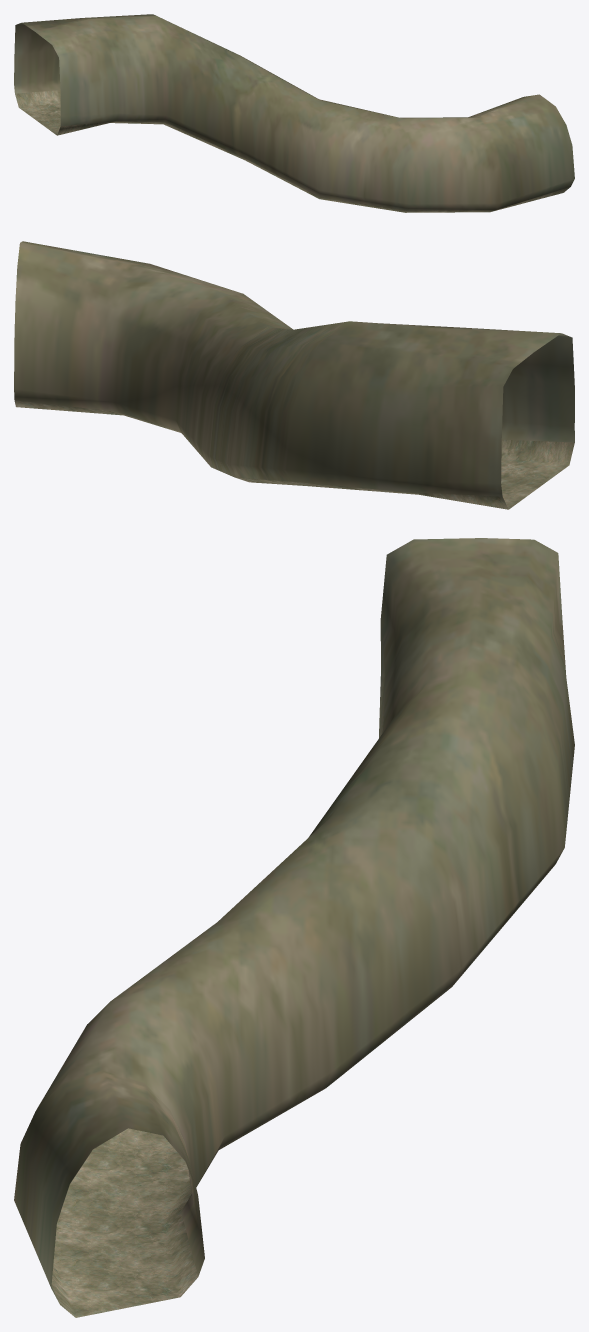
File: OVERHILL_A_01_CM_TUNNEL_01.fbx
The picture shows the model from 3 angles, top to bottom: view 1: azimuth 30°, elevation 25°; view 2: azimuth 150°, elevation 25°; view 3: azimuth 270°, elevation 25°; orthographic projection. The views are drawn at different scales.
Parts seen in each view (by area): view 1: OVERHILL_A_01_CM_TUNNEL_01; view 2: OVERHILL_A_01_CM_TUNNEL_01; view 3: OVERHILL_A_01_CM_TUNNEL_01.
Boxes of the visible parts, x1,y1,x2,y2 form: OVERHILL_A_01_CM_TUNNEL_01: [14, 14, 574, 212]; OVERHILL_A_01_CM_TUNNEL_01: [14, 241, 574, 509]; OVERHILL_A_01_CM_TUNNEL_01: [14, 538, 574, 1317].
Size of the model in its own units: 162606 by 68348 by 93403.
Materials: 1 (1 with a texture image).
